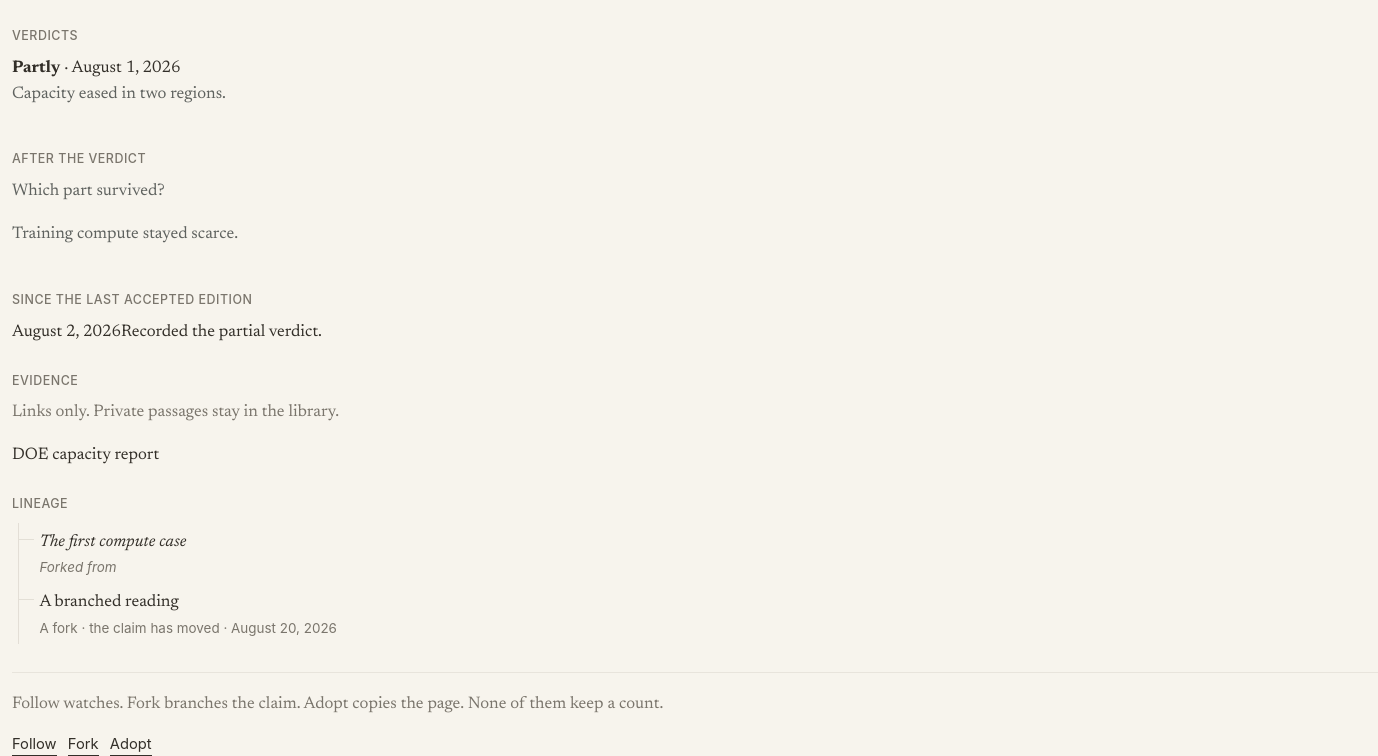
Test: PublicCasebook › follows without inventing a vanity count
(page scrolled)
Click the button "Follow": click(34, 744) [12,733,57,755]
(page scrolled)
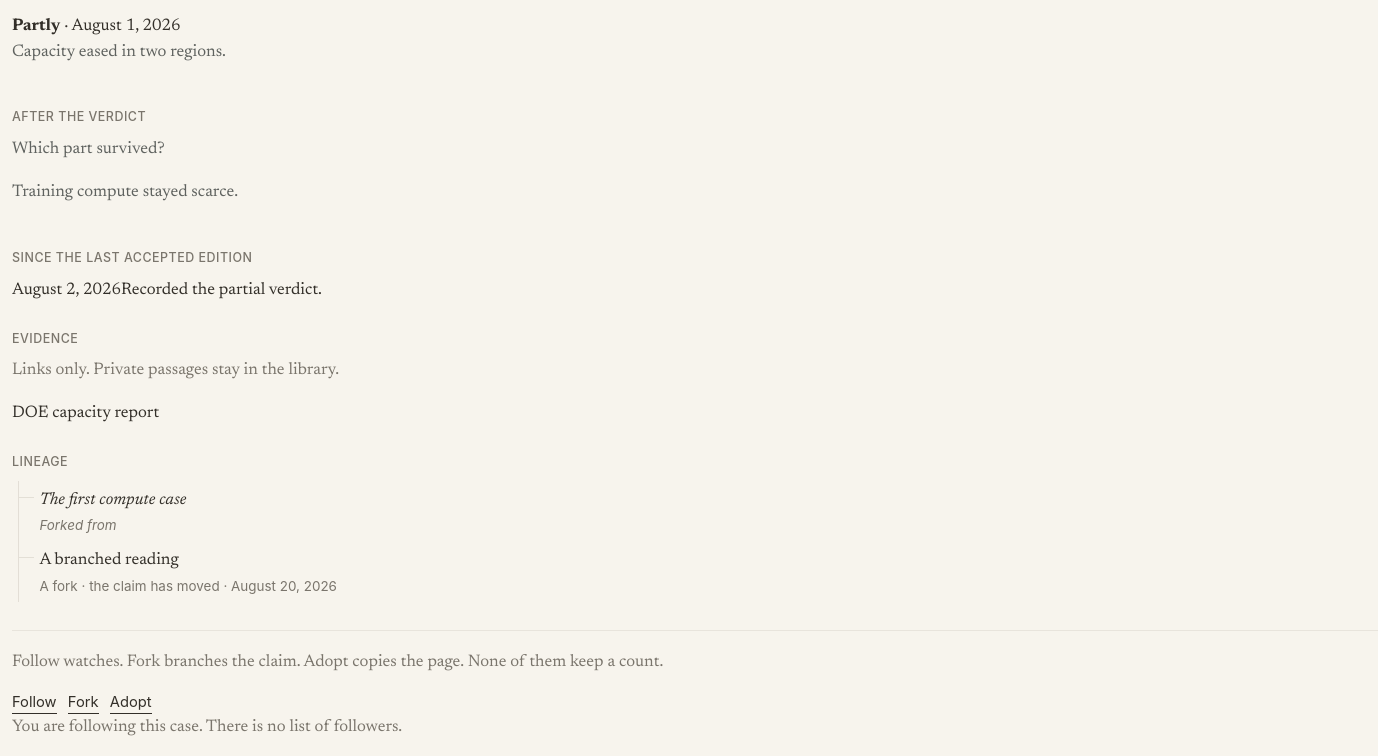
Check: the message shows "no list of followers", box [12,719,402,735]
